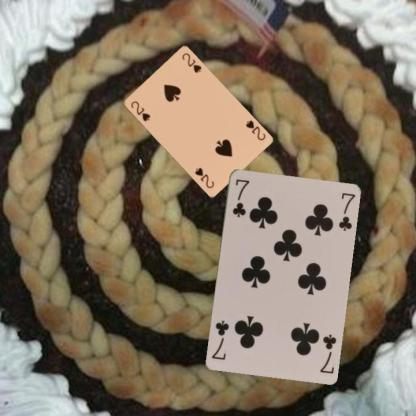2s: (128, 98, 152, 123), (243, 117, 266, 142)
7c: (316, 331, 338, 374), (229, 176, 251, 218)
